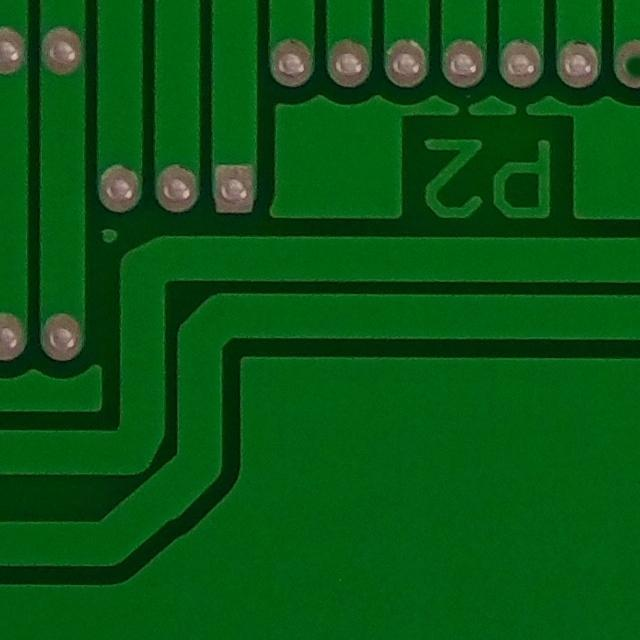missing_hole: (608, 33, 640, 95)
